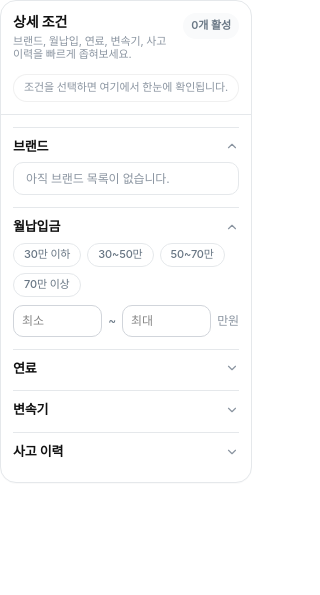
Test: SidebarFilters › renders accident radio options
# 사고 이력 fieldset is collapsed by default — expand it first
Click the button "사고 이력".
click(126, 452)  # box left=13, top=441, right=239, bottom=462
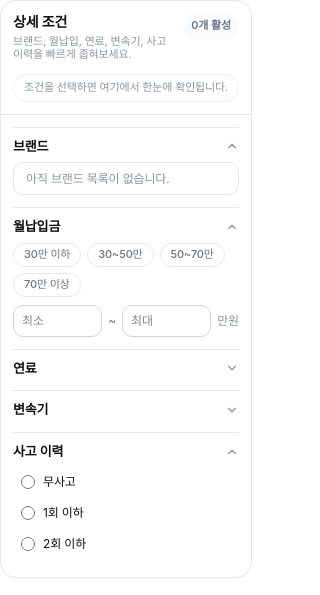
Now the radio button labelled "무사고" is shown, box left=21, top=475, right=35, bottom=489
Now the radio button labelled "1회 이하" is shown, box left=21, top=506, right=35, bottom=520
Now the radio button labelled "2회 이하" is shown, box left=21, top=537, right=35, bottom=551
